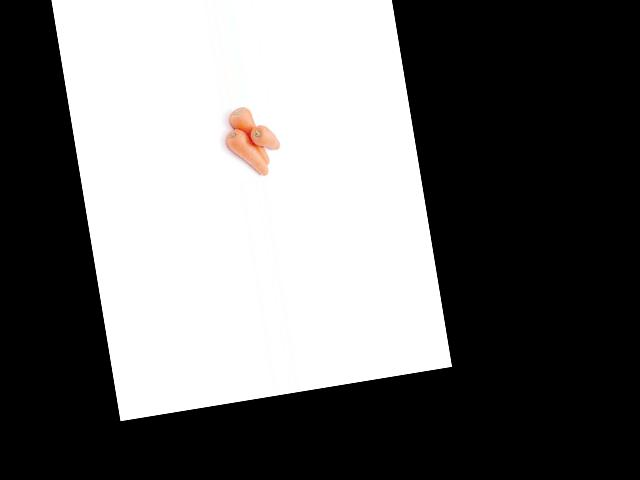carrot: (225, 105, 269, 171)
